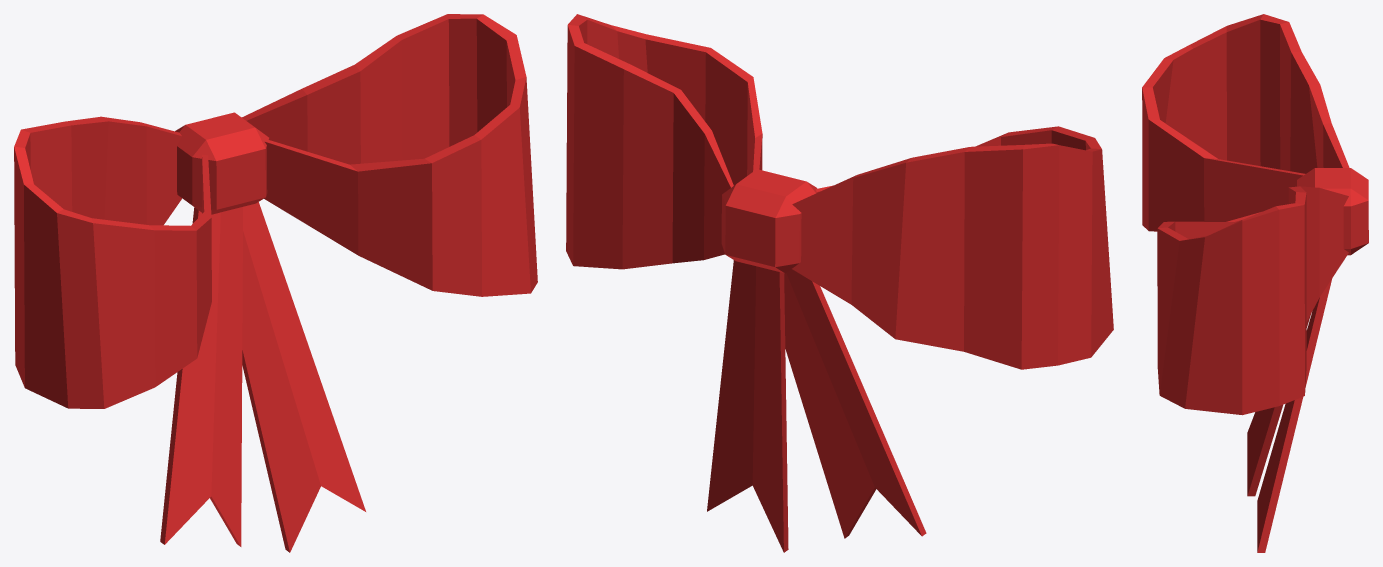
File: Isl_16_Bow_2.fbx
3 renders of one model, left to right at view 1: azimuth 30°, elevation 25°; view 2: azimuth 150°, elevation 25°; view 3: azimuth 270°, elevation 25°, orthographic. The views are drawn at different scales.
Parts seen in each view (by area): view 1: Isl_16_Bow_2; view 2: Isl_16_Bow_2; view 3: Isl_16_Bow_2.
Boxes of the visible parts, box(x1,y1,x2,y2) form: Isl_16_Bow_2: box(14, 14, 537, 552); Isl_16_Bow_2: box(566, 14, 1113, 552); Isl_16_Bow_2: box(1142, 14, 1368, 552).
Size of the model in its own units: 149 by 66.62 by 135.
1 material, 1 textured.
